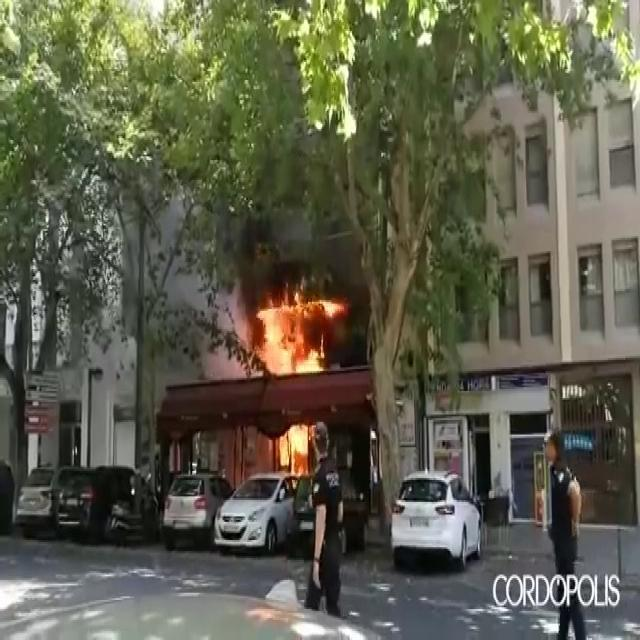Fire: (237, 282, 342, 380), (272, 418, 319, 476)
